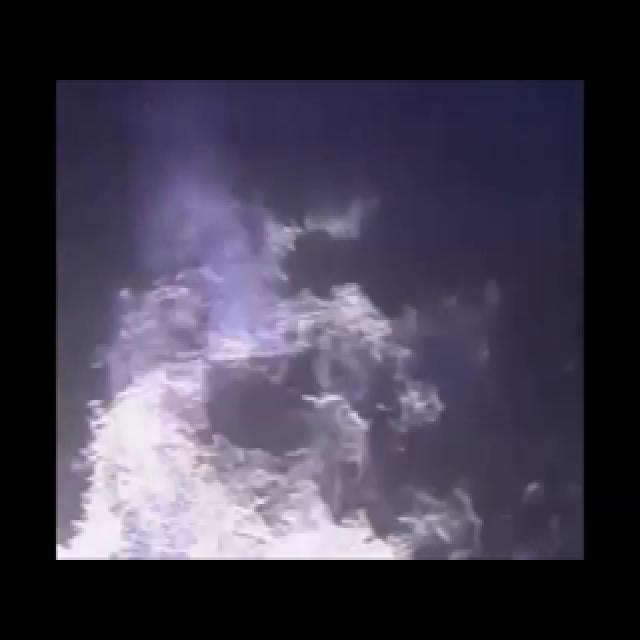arson: (110, 142, 453, 568)
